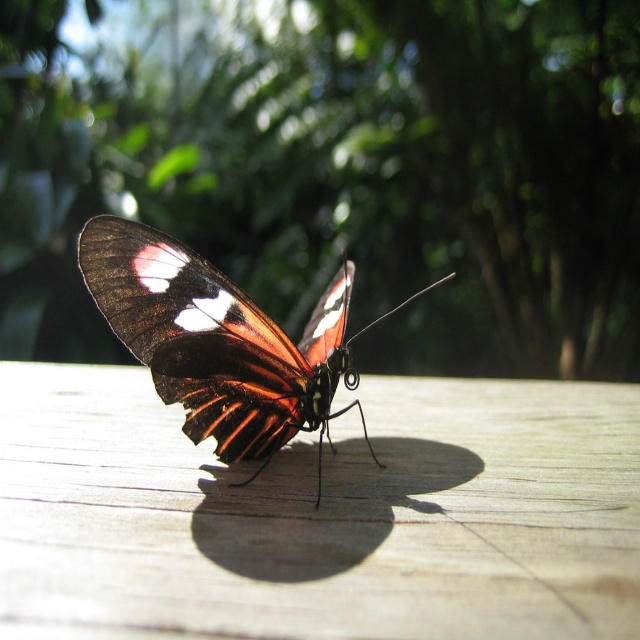Butterfly: (86, 211, 427, 497)
